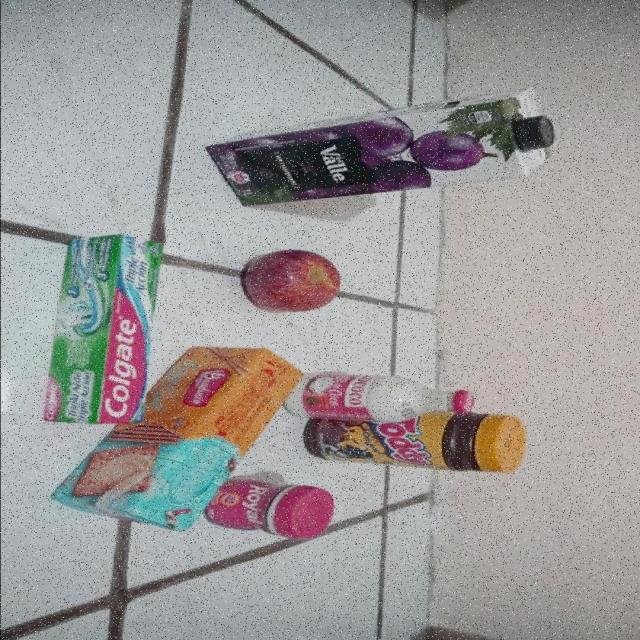Apple: (241, 249, 343, 315)
ChocolatePowder: (304, 412, 528, 473)
CoconutMilk: (276, 372, 478, 423)
Cracker: (48, 347, 304, 532)
Toothpaste: (39, 233, 163, 426)
Yeast: (194, 478, 336, 539)
